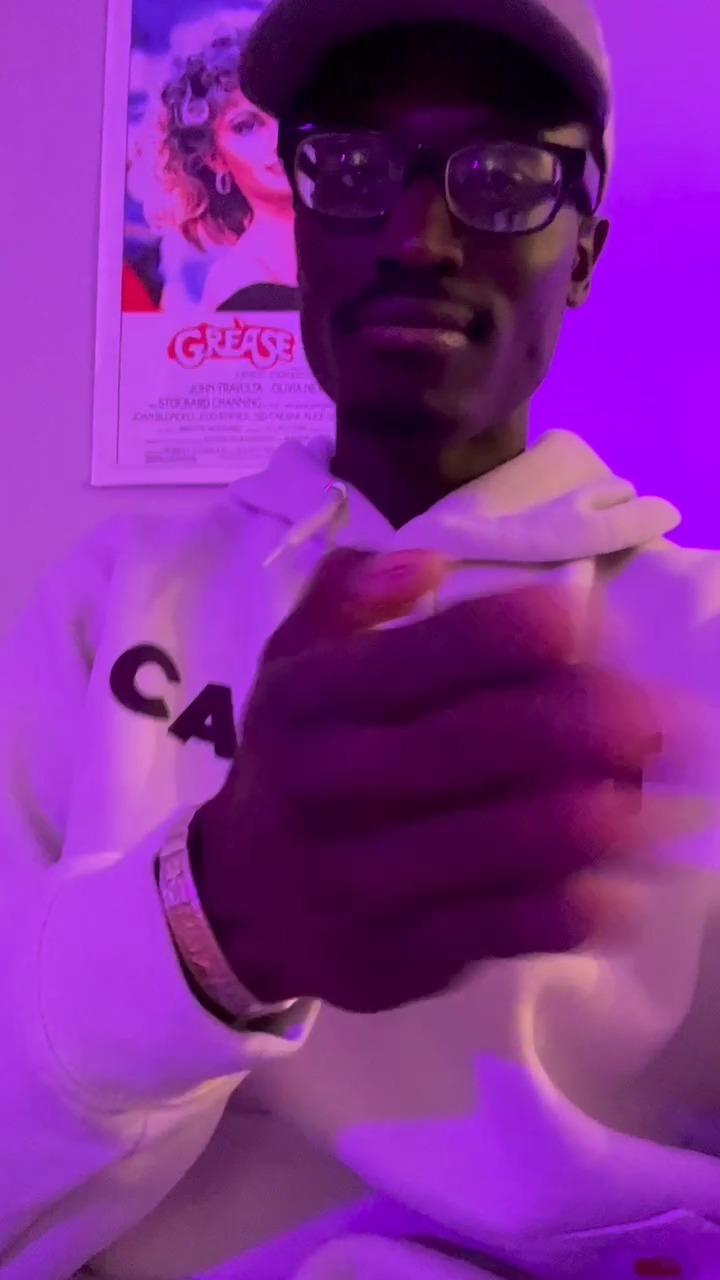Paper: (184, 538, 665, 1000)
